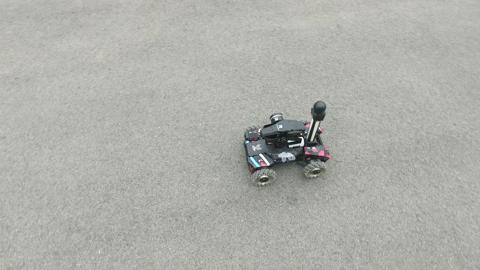chariot: (242, 99, 332, 186)
